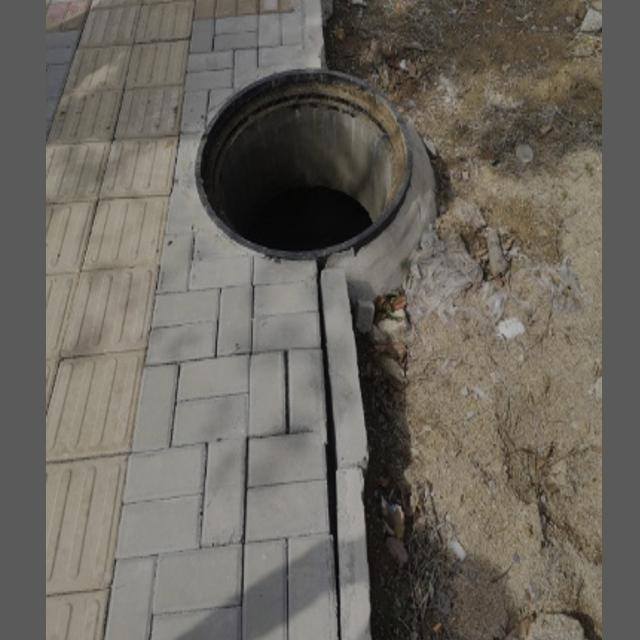lose: (193, 67, 413, 258)
